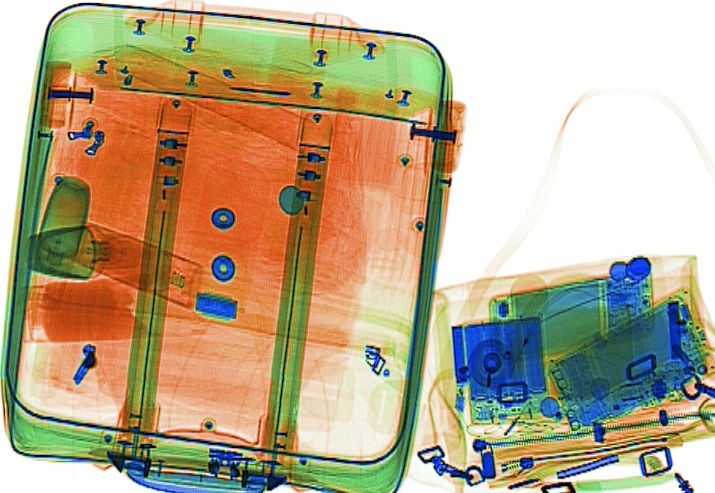powerbank: (447, 314, 548, 402)
